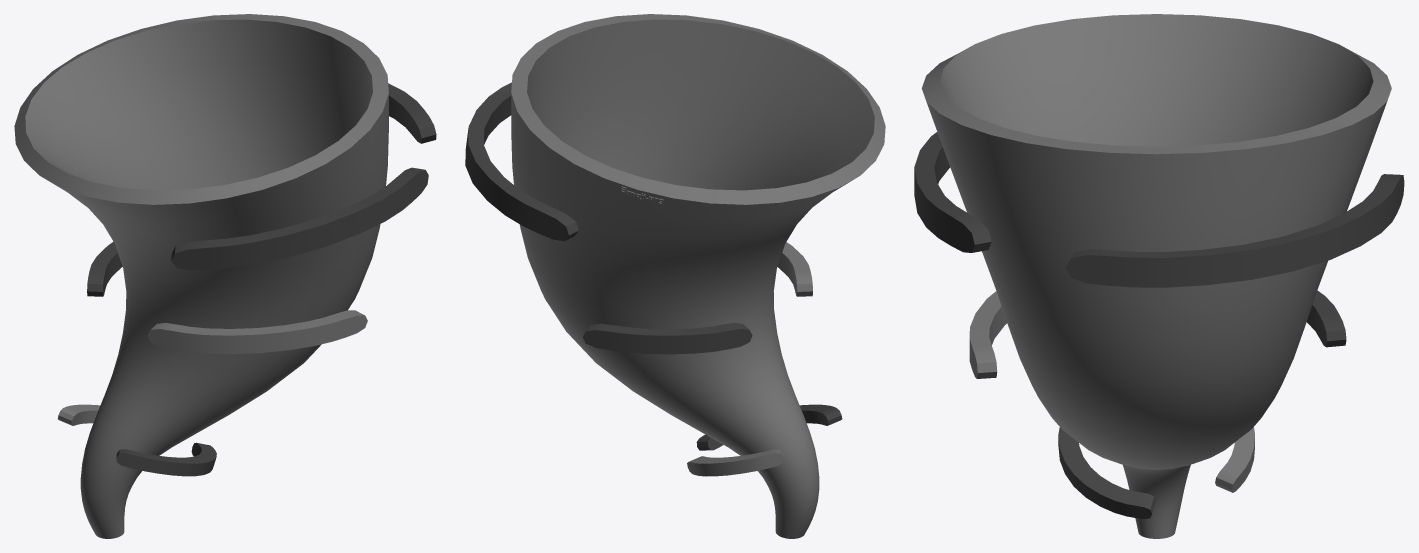
The model's file is tornado.fbx.
The picture shows the model from 3 angles, left to right: view 1: azimuth 30°, elevation 25°; view 2: azimuth 150°, elevation 25°; view 3: azimuth 270°, elevation 25°; orthographic projection. The views are drawn at different scales.
Visible parts, largest first — view 1: Circle.2121; view 2: Circle.2121; view 3: Circle.2121.
Part boxes in pixels (x1=…): Circle.2121: x1=14, y1=14, x2=436, y2=538; Circle.2121: x1=465, y1=14, x2=885, y2=538; Circle.2121: x1=914, y1=14, x2=1404, y2=538.
Size of the model in its own units: 202 by 223 by 185.
1 material, 1 textured.
